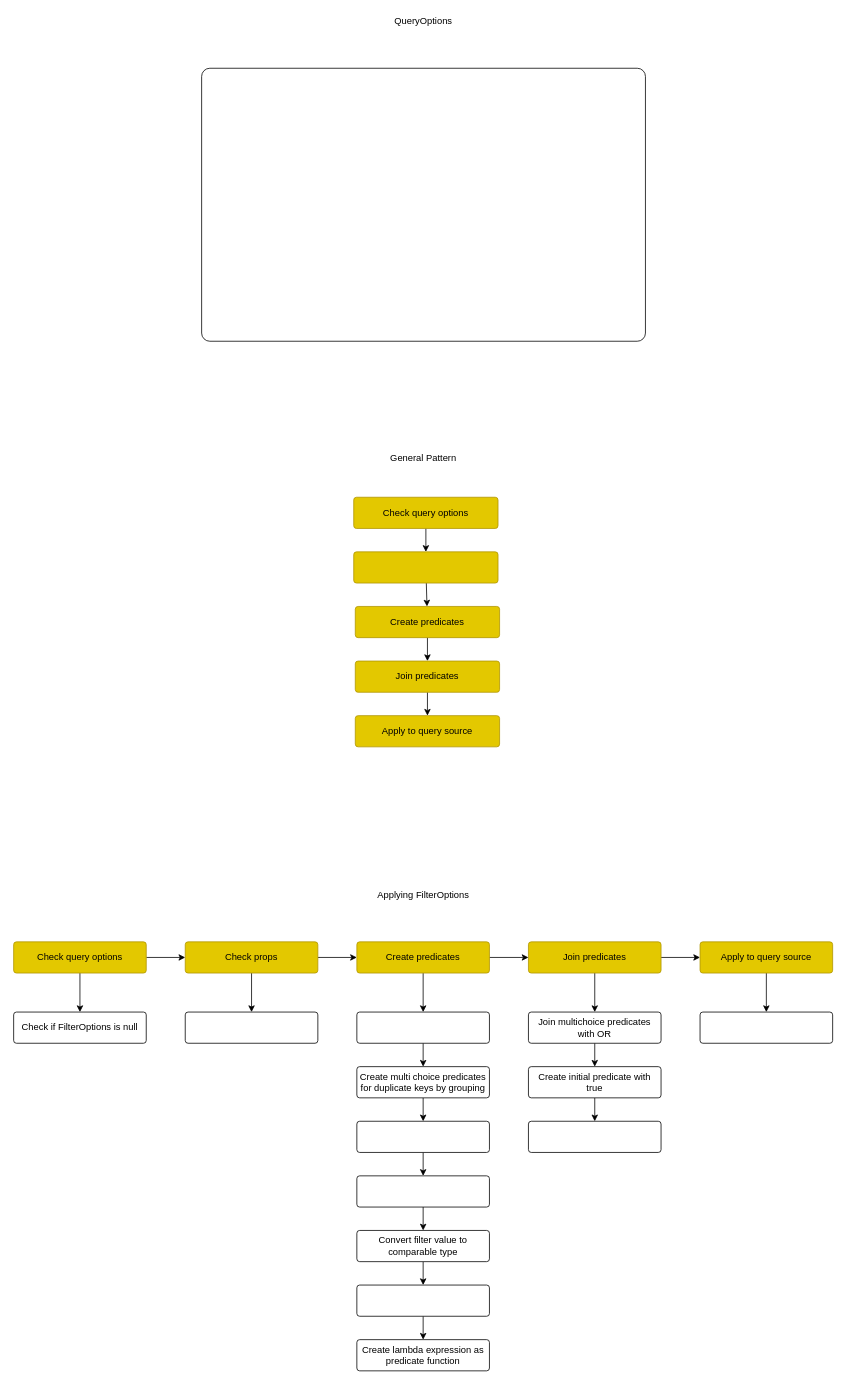
Image size: 846x1385. Some labels were removed from this diagram. Each missing label, with the centre of its shape:
"Check props to avoid exceptions" goes at (x=425, y=567).
"Create initial predicate with false" goes at (x=422, y=1136).
"Create member and call expressions" goes at (x=422, y=1300).
"Get compare method" goes at (x=422, y=1191).
"Get simple type properties" goes at (x=251, y=1027).
"Iterate existing props and match to filters by key" goes at (x=422, y=1027).
"Join final predicates with AND to single predicate expression" goes at (x=594, y=1136).
"Use Where method to apply predicate expression" goes at (x=766, y=1027).
